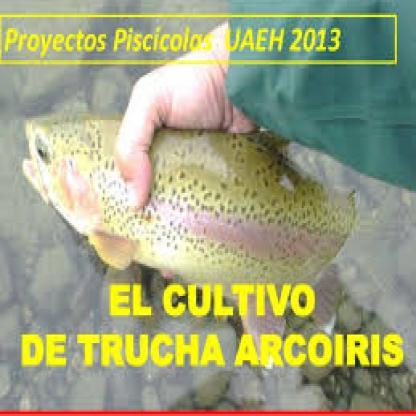fish: (12, 110, 414, 316)
